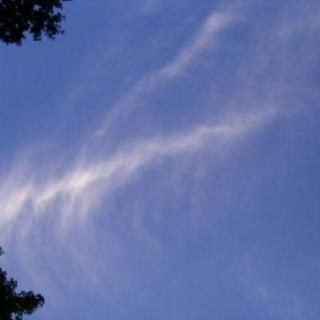Cirrus: (1, 54, 320, 279)
